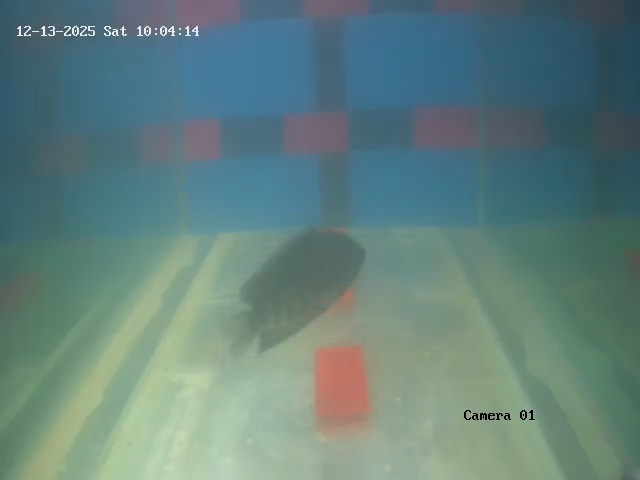fish: (243, 211, 365, 368)
